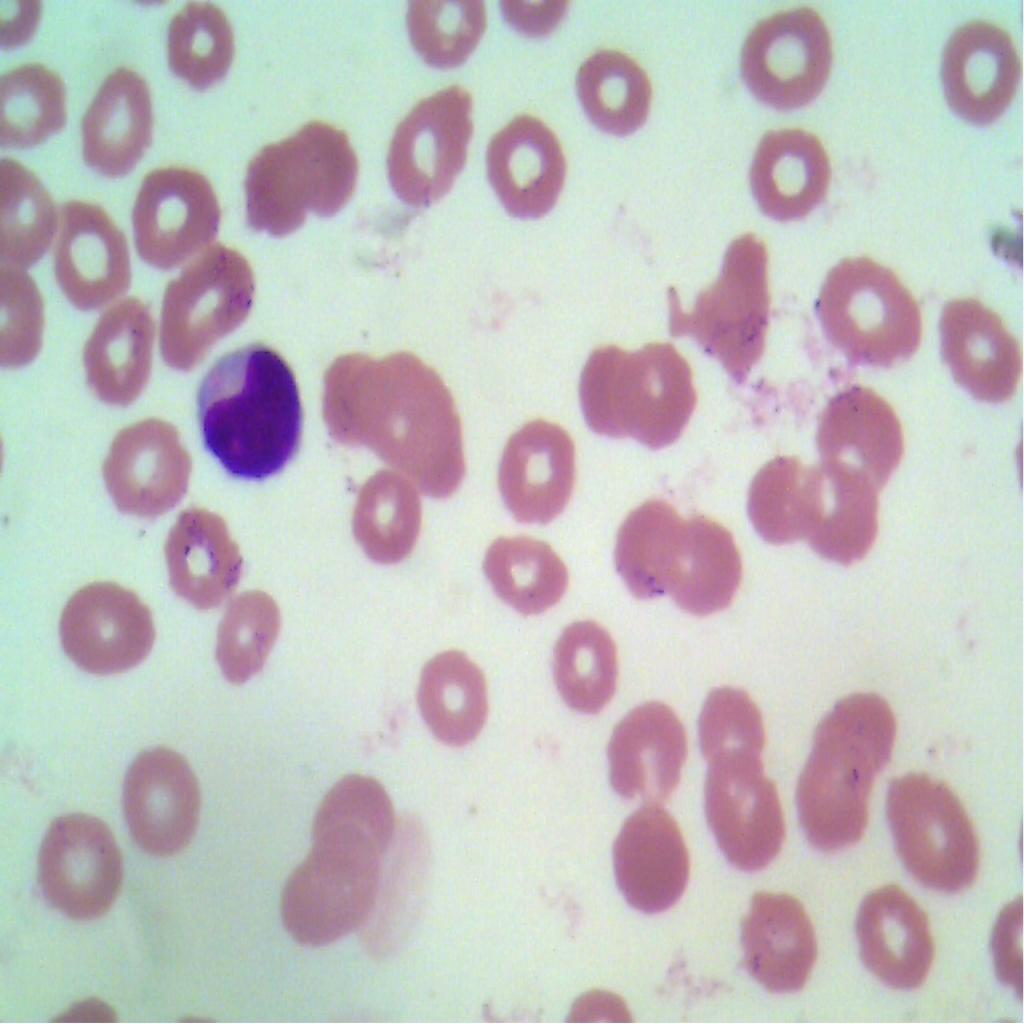Eritrosit: (816, 245, 939, 379), (371, 355, 475, 500), (878, 760, 984, 902), (683, 239, 781, 387), (276, 834, 384, 961), (484, 410, 586, 538), (158, 244, 258, 371), (56, 568, 163, 685), (742, 111, 838, 235), (735, 1, 836, 118), (941, 284, 1023, 426), (938, 7, 1023, 141), (30, 814, 136, 921), (609, 801, 698, 927), (388, 81, 474, 210), (74, 282, 160, 410), (479, 105, 568, 228), (118, 738, 204, 864), (129, 158, 221, 274), (814, 379, 900, 500), (73, 58, 155, 184), (711, 754, 795, 877), (608, 696, 698, 810), (848, 884, 938, 994), (157, 0, 251, 103), (155, 494, 242, 605), (408, 642, 491, 757), (271, 111, 359, 219), (488, 517, 578, 622), (211, 575, 289, 695), (106, 417, 191, 525), (742, 885, 820, 1002), (58, 195, 136, 308), (342, 464, 423, 572), (542, 608, 623, 714), (798, 467, 878, 572), (668, 518, 741, 632), (619, 340, 695, 447), (303, 775, 395, 862), (400, 0, 494, 82), (790, 749, 870, 844), (823, 690, 903, 784), (574, 334, 648, 435), (576, 41, 658, 131), (619, 488, 683, 600), (746, 452, 819, 550), (0, 56, 75, 150), (695, 681, 768, 771), (326, 348, 386, 448), (246, 138, 300, 236)
Limfosit: (186, 340, 304, 482)
